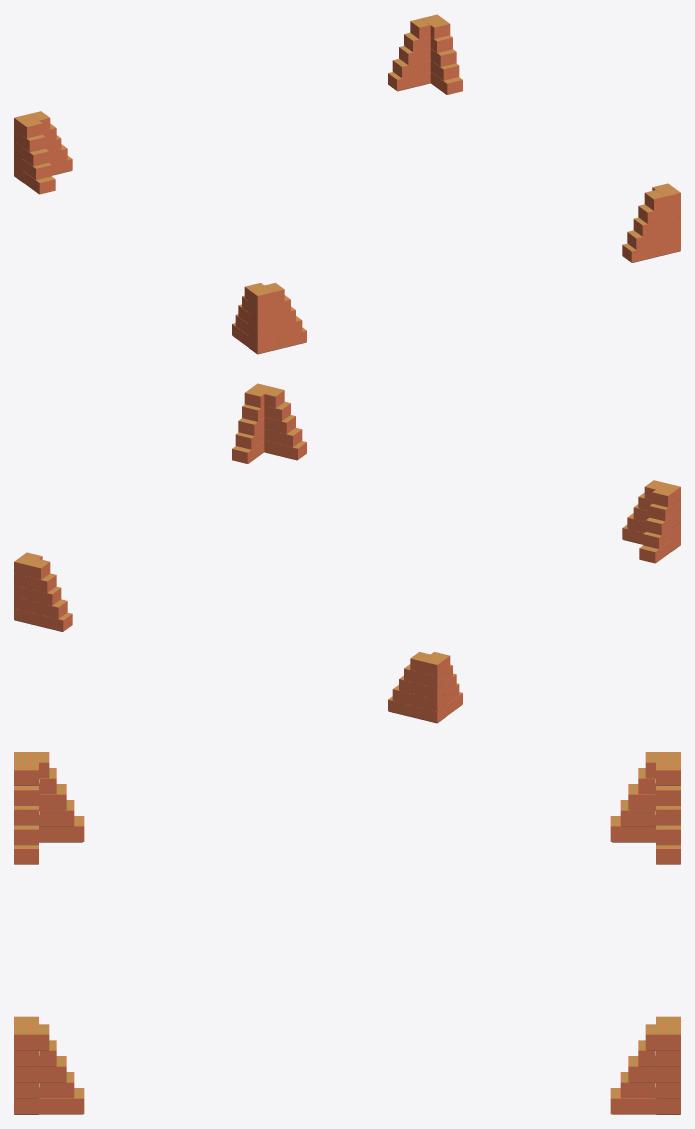
File: house_base_extended(1).glb
The picture shows the model from 3 angles, top to bottom: view 1: azimuth 30°, elevation 25°; view 2: azimuth 150°, elevation 25°; view 3: azimuth 270°, elevation 25°; orthographic projection. The views are drawn at different scales.
Parts seen in each view (by area): view 1: Außenziegel template.079; view 2: Außenziegel template.079; view 3: Außenziegel template.079.
Boxes of the visible parts, x1,y1,x2,y2 form: Außenziegel template.079: (14,14,680,354); Außenziegel template.079: (14,383,680,723); Außenziegel template.079: (14,752,680,1114).
Size of the model in its own units: 9.73 by 1.29 by 9.7.
2 materials, 1 textured.
